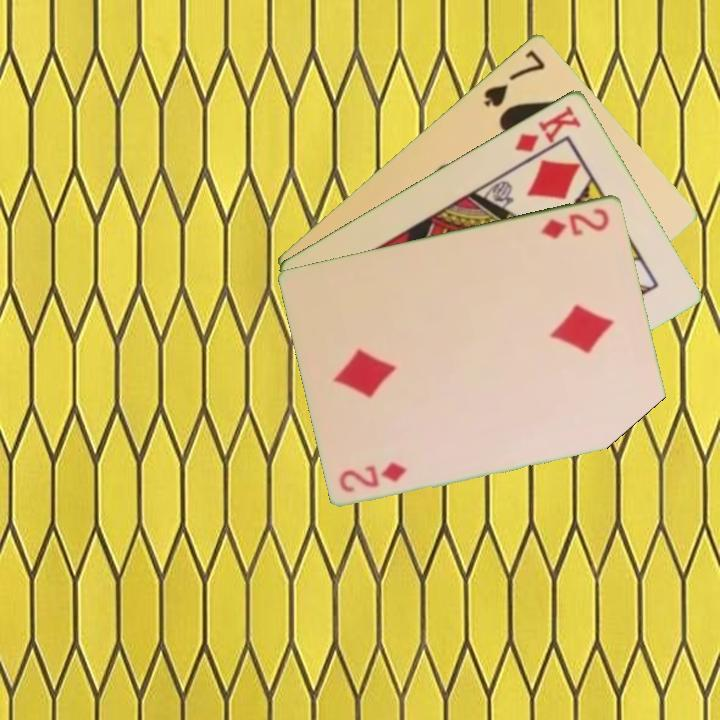2d: (537, 204, 613, 242), (336, 458, 410, 495)
7s: (480, 45, 548, 109)
Kd: (511, 101, 584, 155)
